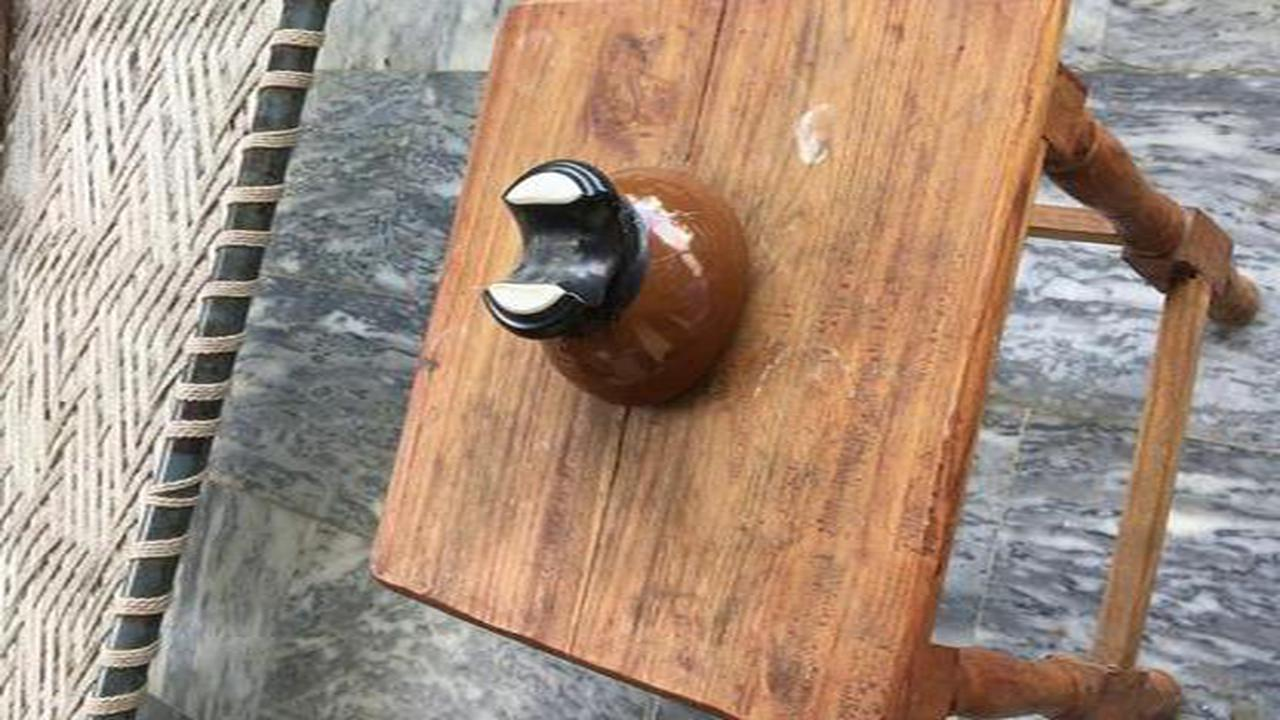insulator_pin: (465, 148, 779, 428)
